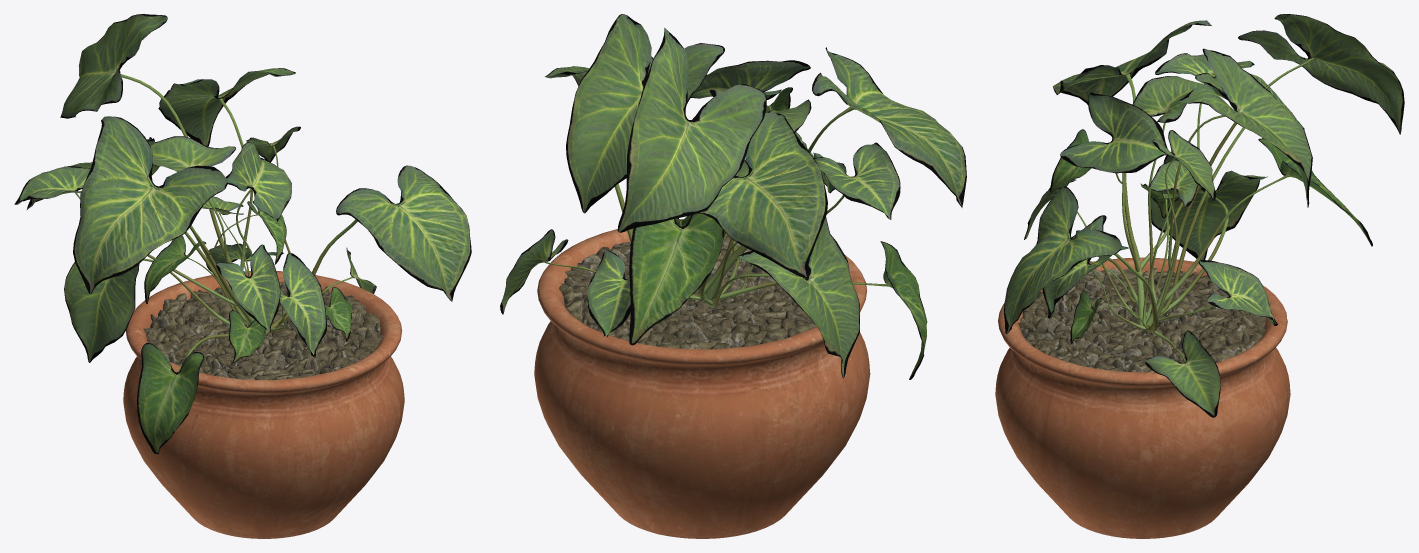
File: potted_plant_02.glb
3 views of the same model, side by side, from view 1: azimuth 30°, elevation 25°; view 2: azimuth 150°, elevation 25°; view 3: azimuth 270°, elevation 25° (orthographic). The views are drawn at different scales.
Parts seen in each view (by area): view 1: potted_plant_02; view 2: potted_plant_02; view 3: potted_plant_02.
Part boxes in pixels (left/top/right/bottom): potted_plant_02: left=14, top=14, right=471, bottom=538; potted_plant_02: left=500, top=14, right=966, bottom=538; potted_plant_02: left=995, top=14, right=1404, bottom=538.
Bounding box in the file's own units: 0.7012 × 0.8412 × 0.6574.
2 materials, 2 textured.
